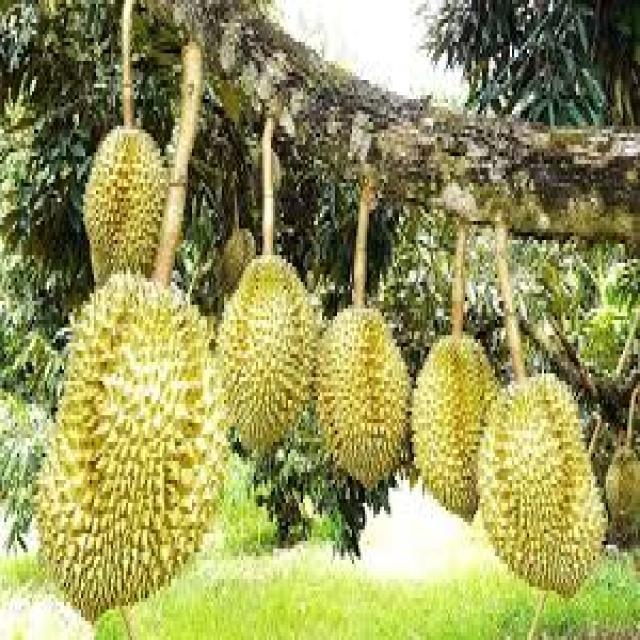mature: (38, 267, 228, 610), (477, 376, 610, 602), (214, 254, 316, 456), (410, 329, 500, 525), (314, 303, 414, 479), (84, 124, 170, 291)
